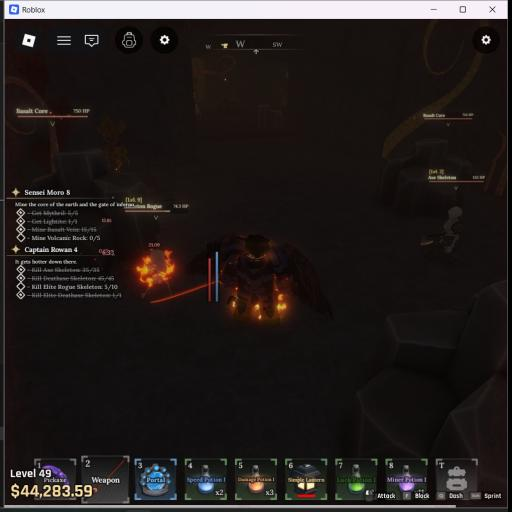player: (206, 234, 331, 325)
rock: (327, 279, 511, 506), (377, 138, 472, 216), (32, 148, 146, 206), (108, 207, 159, 256)
